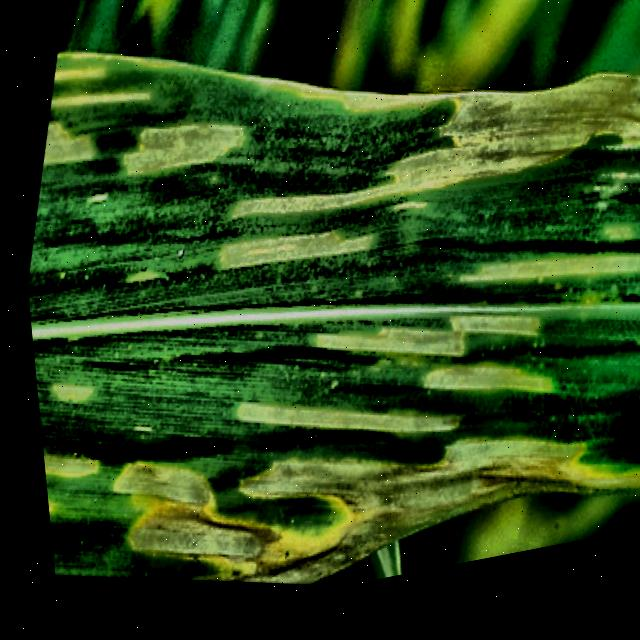gray_spot: (31, 48, 640, 582)
